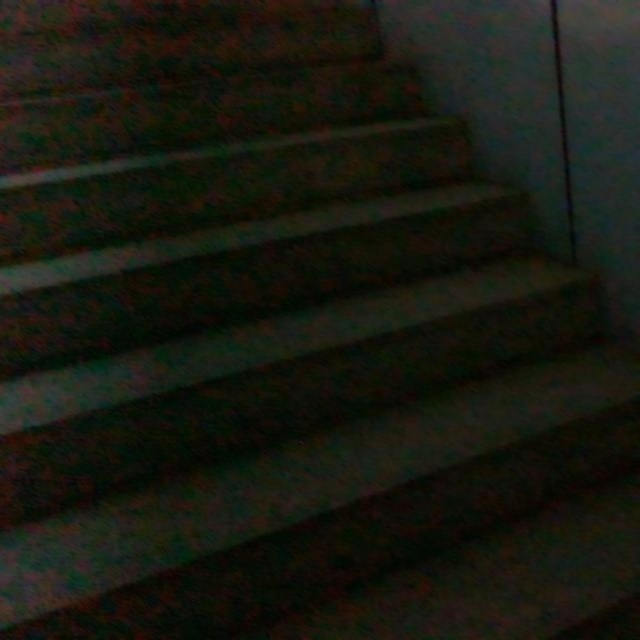stair: (0, 3, 631, 634)
